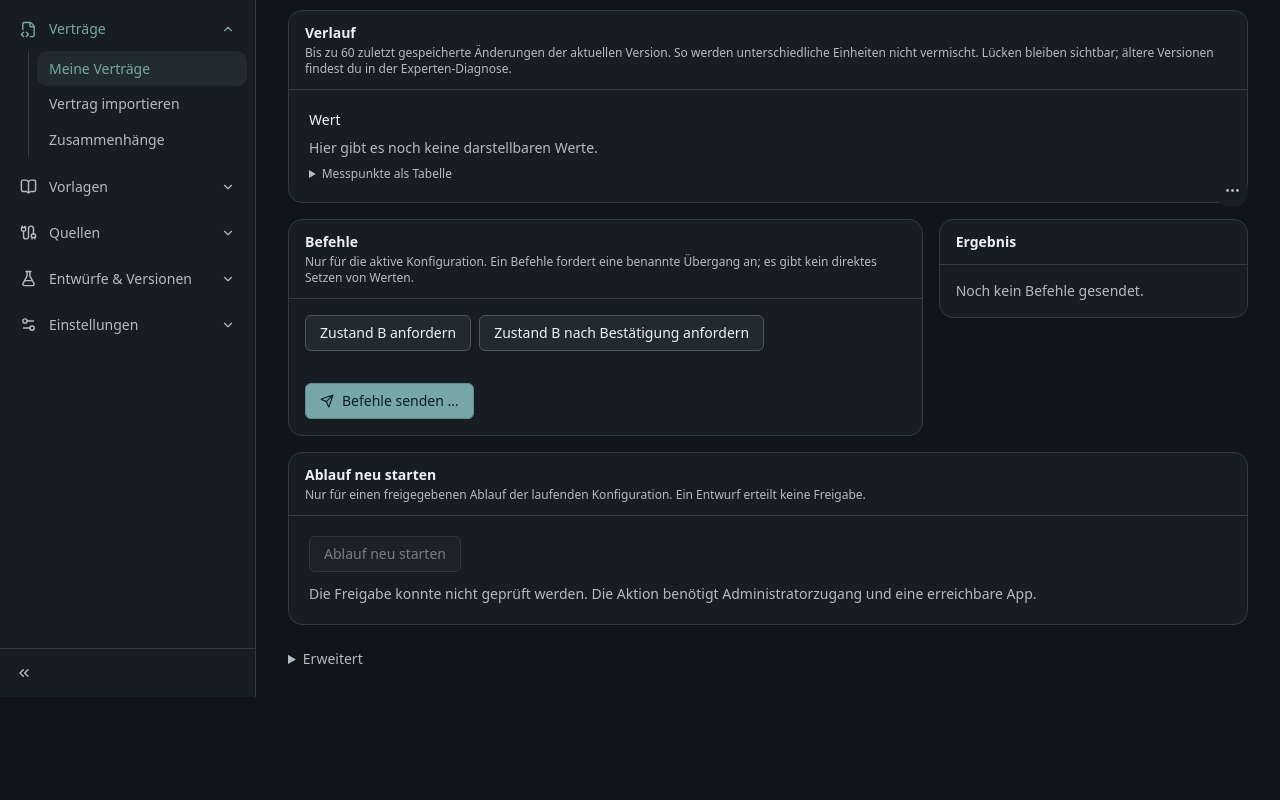
Test: offers declared flow commands on the detail page and requires confirmation before sending
(page scrolled)
Expected: the button "Zustand B anfordern" is shown, [305,314,471,350]
What coordinates should you click on to do the following:
click the button "Befehle senden …"
I would click on:
 (389, 400)
Its box is [305,382,474,418].
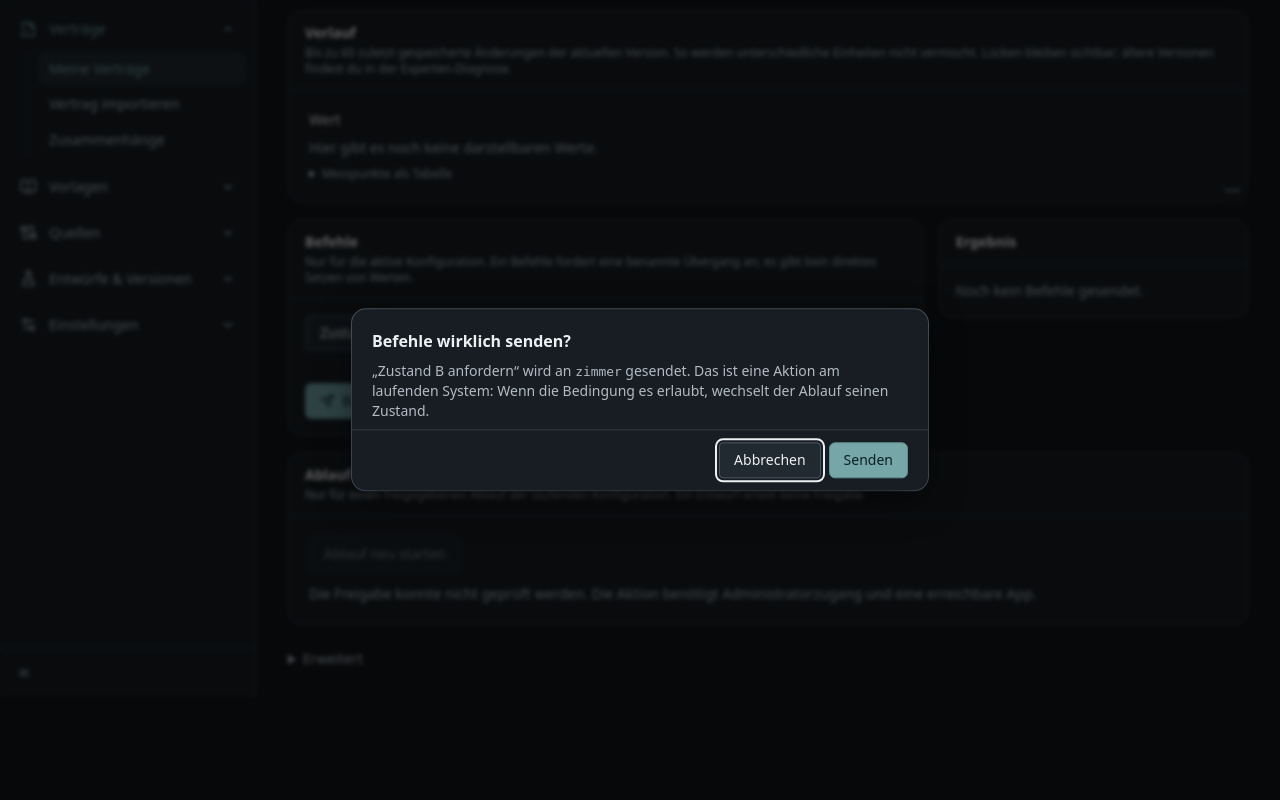
What coordinates should you click on to do the following:
click the button "Senden"
I would click on:
 (868, 461)
Its box is [829,443,908,479].
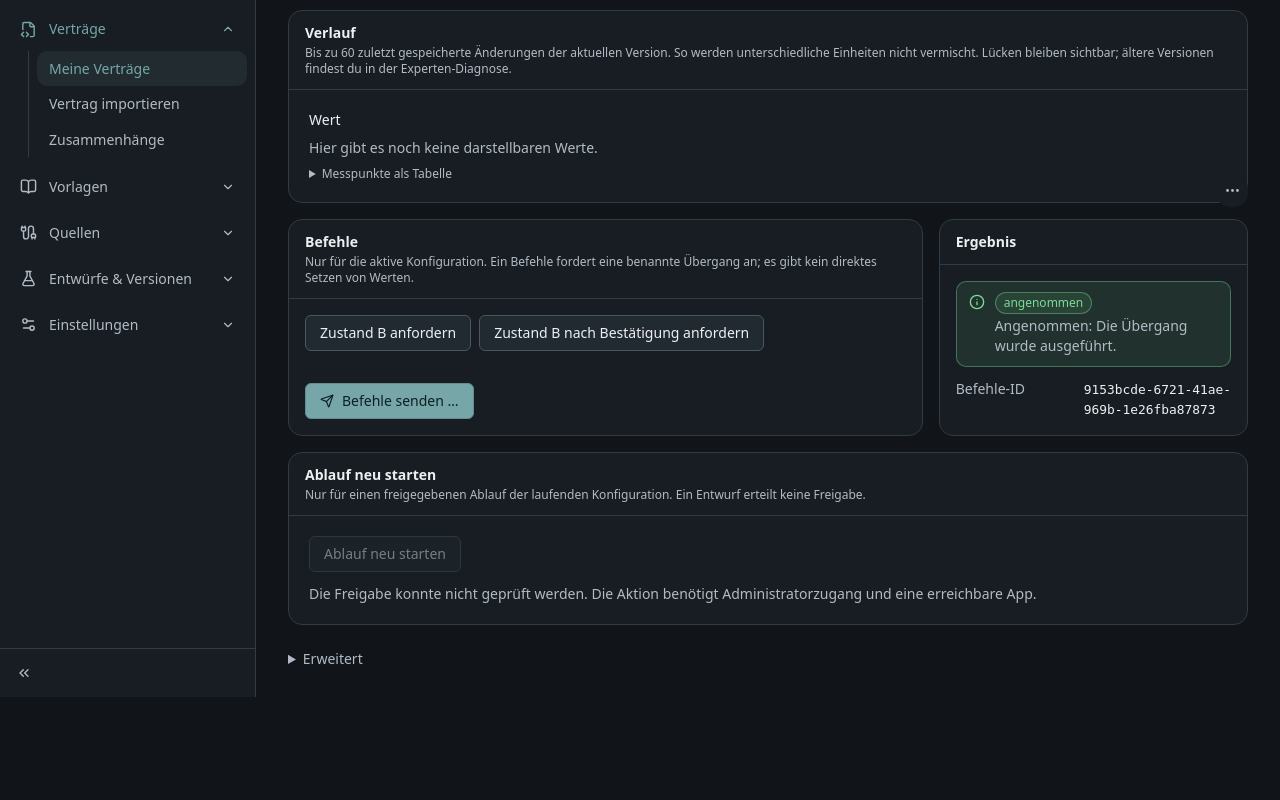
Expected: the text "angenommen" is shown, [995,292,1092,314]
